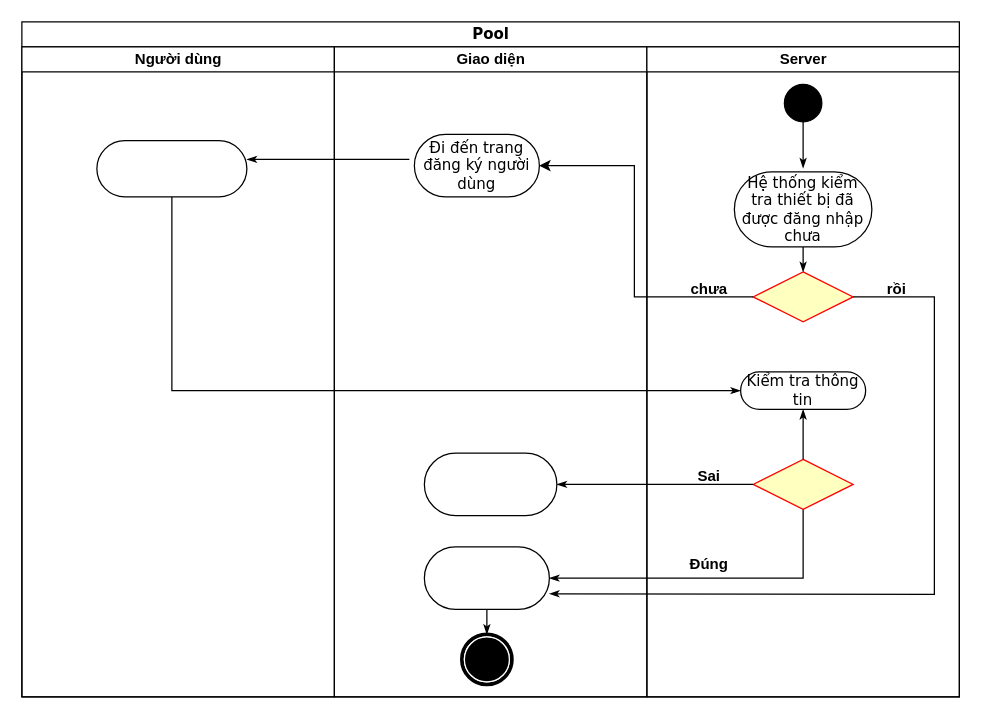
This 981x719 diagram has some shape labels left out. Each missing label, with the centre of its shape:
Người dùng nhập email và mật khẩu: pixel 171 168
Yêu cầu người dùng nhập lại thông tin: pixel 490 484
Đến trang home của ứng dụng: pixel 486 577
